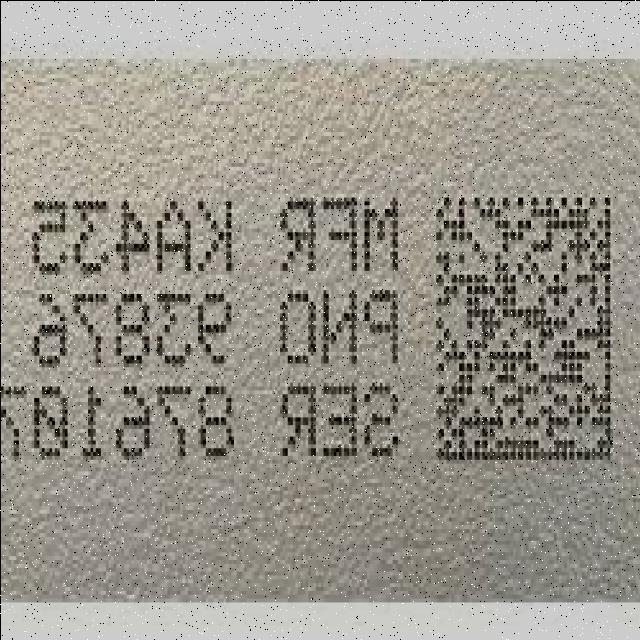datamatrix: (428, 181, 622, 478)
